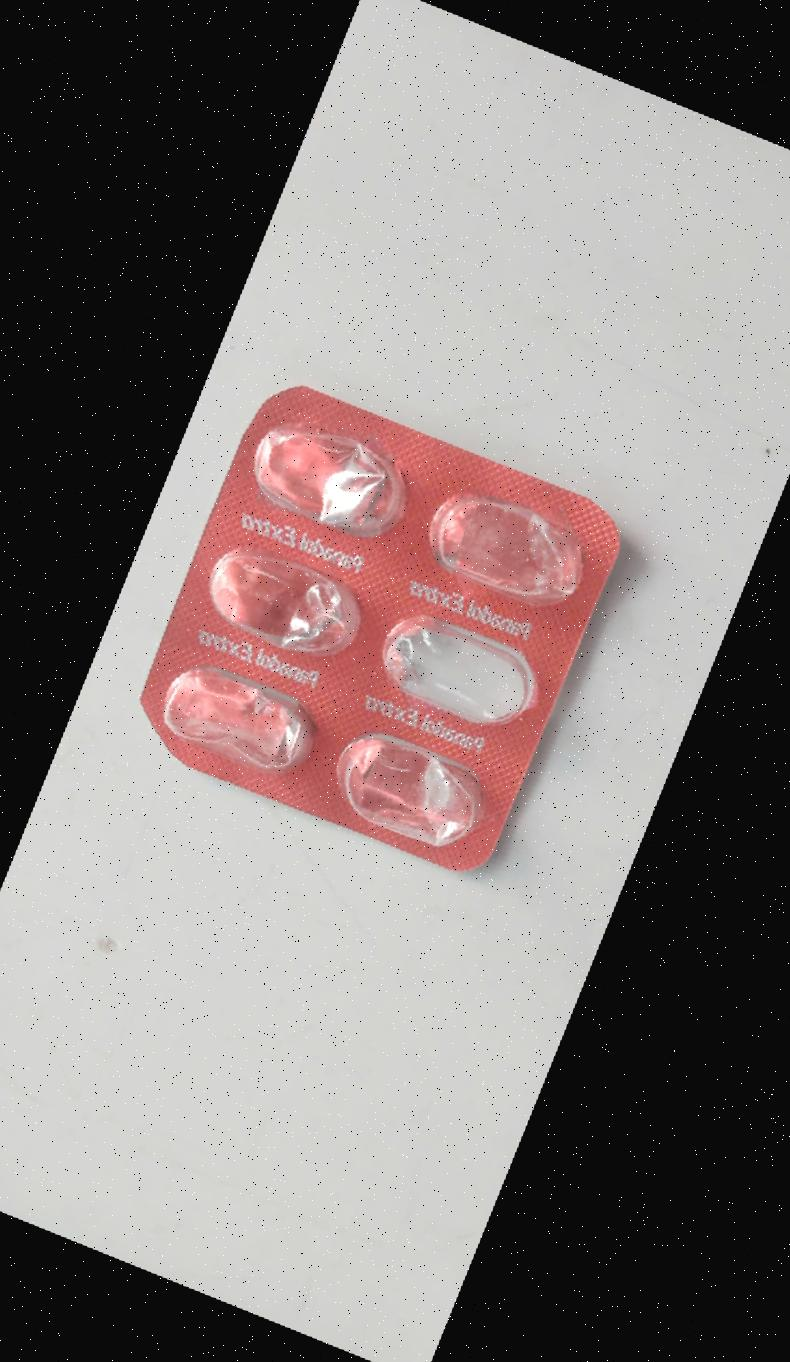Empty: (182, 531, 377, 675), (233, 407, 428, 551), (361, 600, 556, 744), (408, 477, 602, 620), (308, 721, 502, 864), (145, 652, 333, 785)
